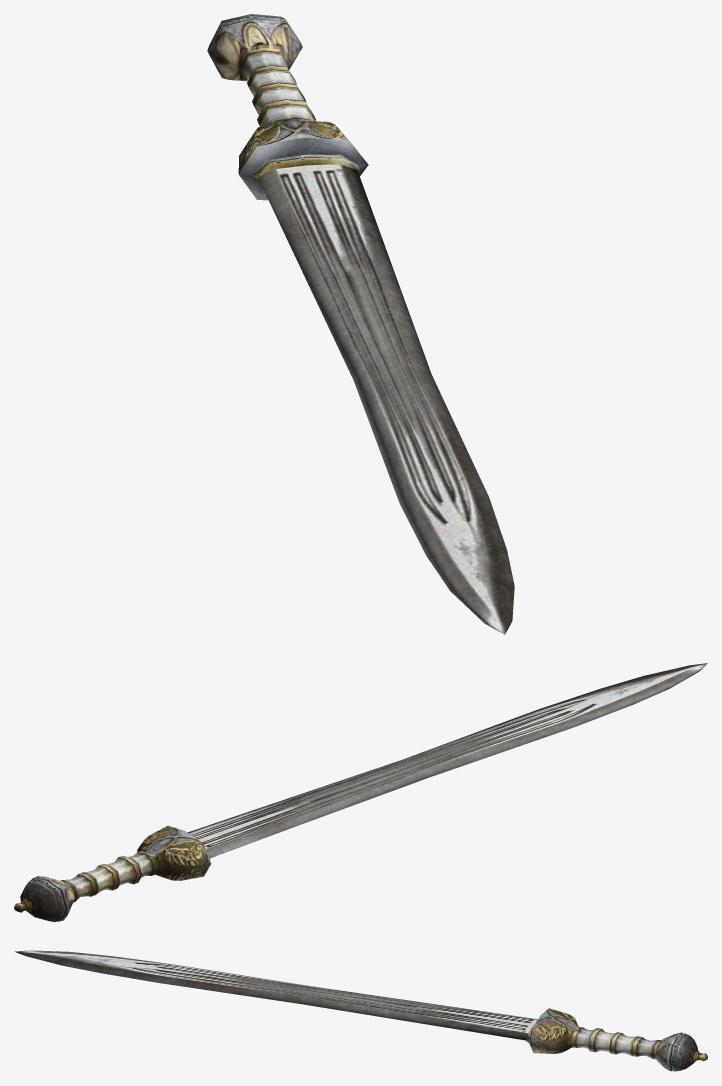
Rendered from whgladius.glb.
3 renders of one model, top to bottom at view 1: azimuth 30°, elevation 25°; view 2: azimuth 150°, elevation 25°; view 3: azimuth 270°, elevation 25°, orthographic. The views are drawn at different scales.
Parts seen in each view (by area): view 1: defaultobject; view 2: defaultobject; view 3: defaultobject.
Boxes of the visible parts, <box> form: defaultobject: <box>207,14,514,634</box>; defaultobject: <box>14,663,707,921</box>; defaultobject: <box>14,950,707,1071</box>.
Bounding box in the file's own units: 1.82 × 0.2438 × 4.78.
Materials: 1 (1 with a texture image).
